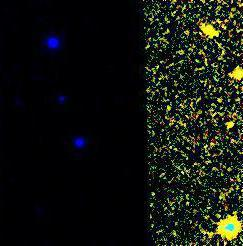star: (191, 13, 221, 43)
